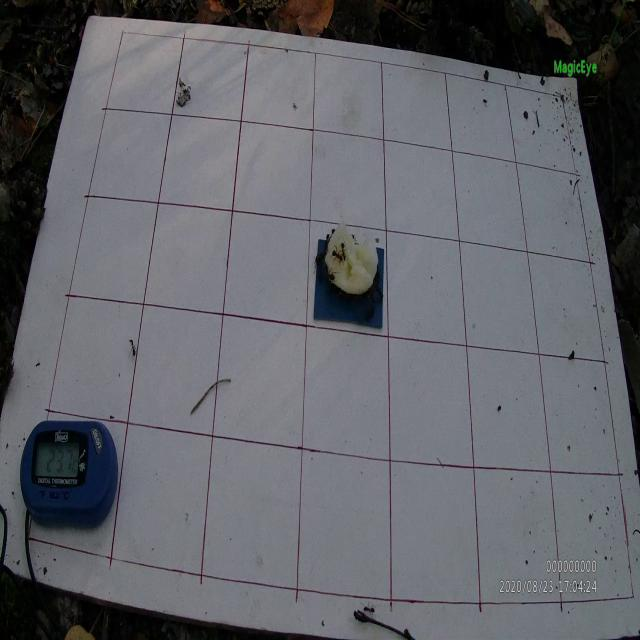Ant: (313, 250, 326, 272), (362, 600, 376, 620), (127, 338, 138, 361), (330, 246, 343, 265), (324, 267, 340, 281), (341, 237, 348, 260)
